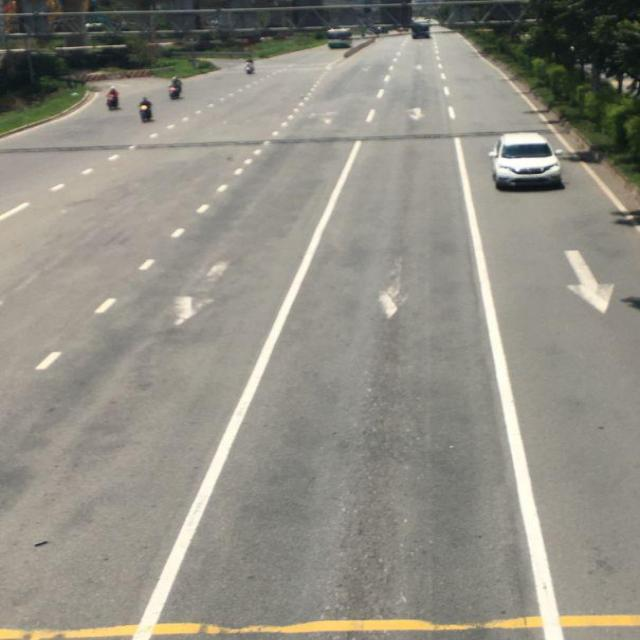car: (490, 134, 566, 192), (324, 28, 352, 50), (410, 21, 430, 39)
motorcycle: (168, 78, 182, 100), (106, 88, 120, 110), (244, 60, 254, 74)
